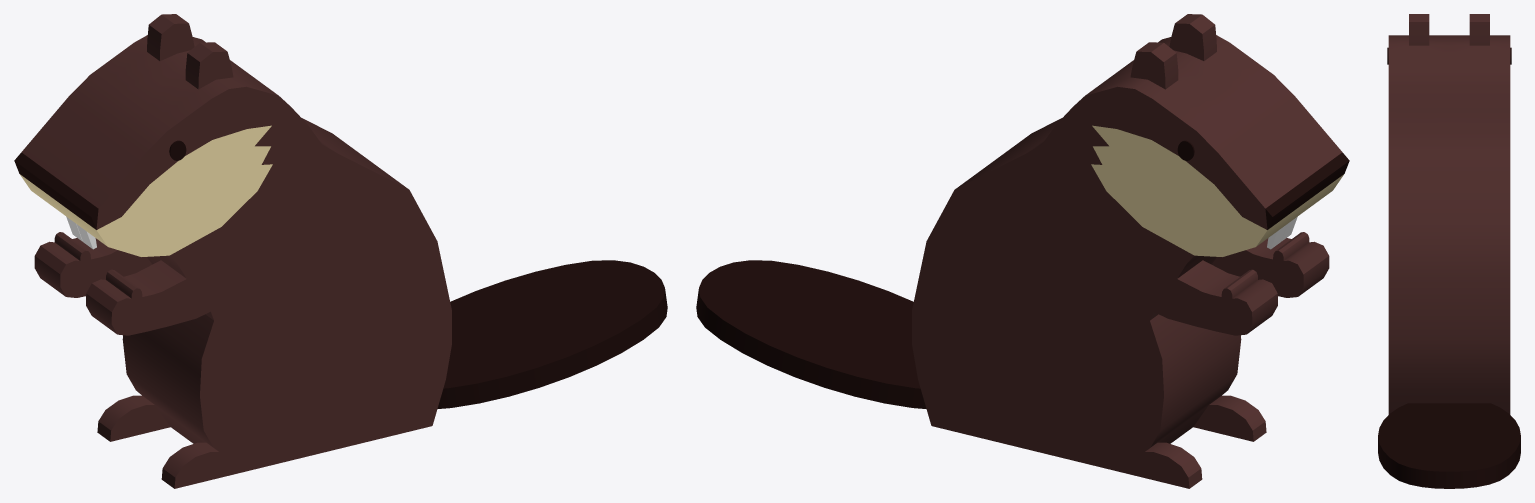
Rendered from Beaver.gltf.
The picture shows the model from 3 angles, left to right: view 1: azimuth 30°, elevation 25°; view 2: azimuth 150°, elevation 25°; view 3: azimuth 270°, elevation 25°; orthographic projection. The views are drawn at different scales.
Visible parts, largest first — view 1: Plane.142, Circle.1922; view 2: Plane.142, Circle.1922; view 3: Plane.142, Circle.1922.
Part boxes in pixels (x1,y1,x2,y2): Plane.142: (14, 14, 451, 488); Circle.1922: (437, 260, 667, 408); Plane.142: (912, 14, 1349, 488); Circle.1922: (696, 260, 926, 408); Plane.142: (1388, 14, 1510, 414); Circle.1922: (1378, 403, 1520, 488).
Bounding box in the file's own units: 2.21 × 1.45 × 0.5746.
3 materials, 1 textured.
